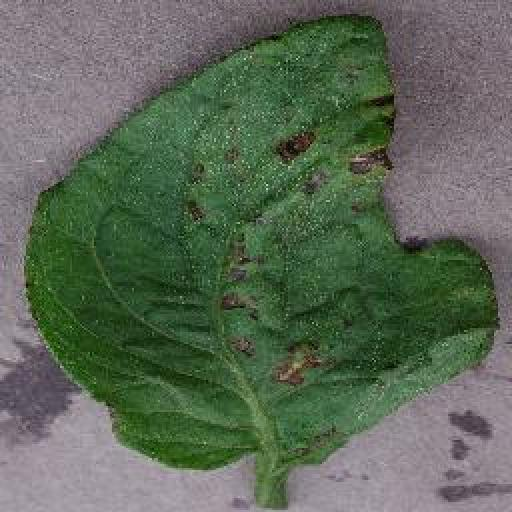Bacterial Spot: (24, 10, 504, 470)
